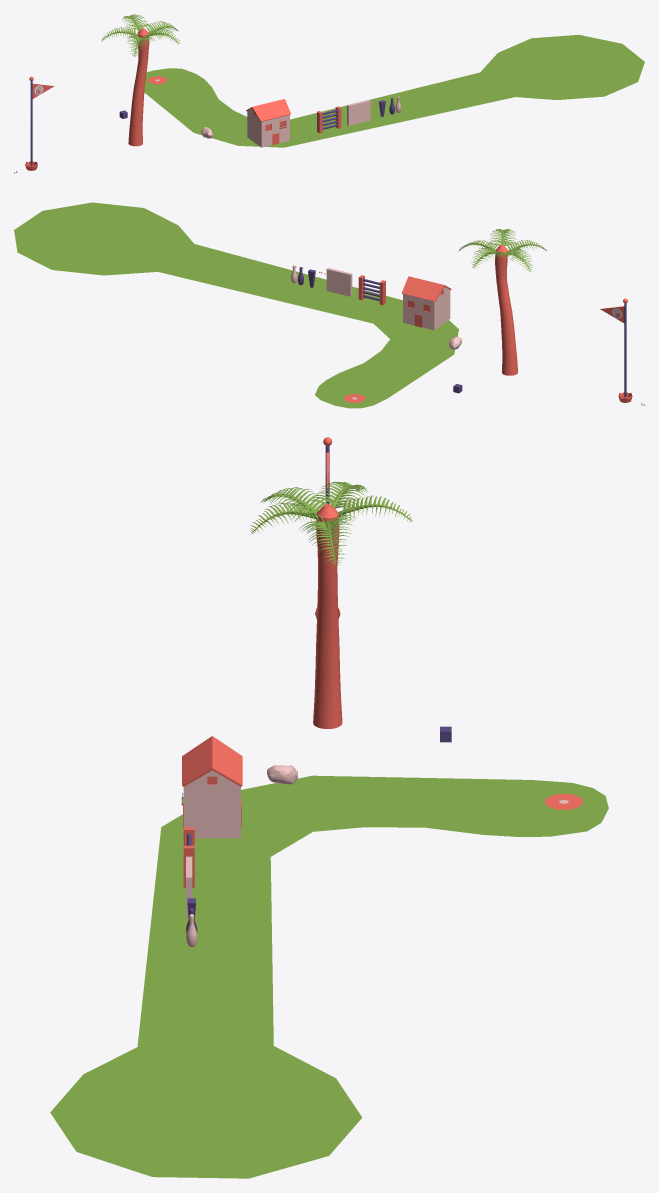
Rendered from GameplayElements.fbx.
3 views of the same model, one above another, from view 1: azimuth 30°, elevation 25°; view 2: azimuth 150°, elevation 25°; view 3: azimuth 270°, elevation 25° (orthographic). The views are drawn at different scales.
Visible parts, largest first — view 1: Plane, Home, Palma, Wll, Goal, Palma.003, Palma.005, GateFrame; view 2: Plane, Home, Palma, Wll, Goal, Palma.002, GateFrame, Palma.004; view 3: Plane, Home, Palma, Palma.001.
Part boxes in pixels (box(x1,y1,x2,y2)): Plane: box(144, 35, 644, 147); Home: box(246, 99, 290, 147); Palma: box(128, 28, 149, 146); Wll: box(347, 99, 370, 125); Goal: box(25, 76, 37, 170); Palma.003: box(127, 34, 154, 56); Palma.005: box(122, 14, 150, 31); GateFrame: box(317, 106, 341, 133); Plane: box(14, 202, 458, 408); Home: box(401, 276, 451, 330); Palma: box(495, 245, 517, 375); Wll: box(326, 268, 352, 296); Goal: box(618, 298, 632, 402); Palma.002: box(488, 229, 517, 246); GateFrame: box(358, 275, 385, 305); Palma.004: box(496, 248, 533, 271); Plane: box(50, 775, 608, 1178); Home: box(182, 736, 242, 838); Palma: box(313, 504, 342, 728); Palma.001: box(299, 515, 356, 565).
Size of what is drawn, in the model's own units: 11514 by 2167 by 4733.
